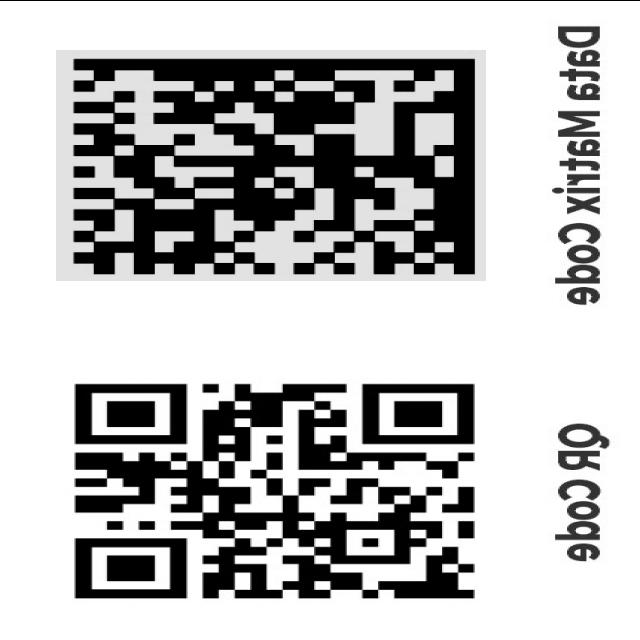DataMatrix: (57, 49, 487, 280)
